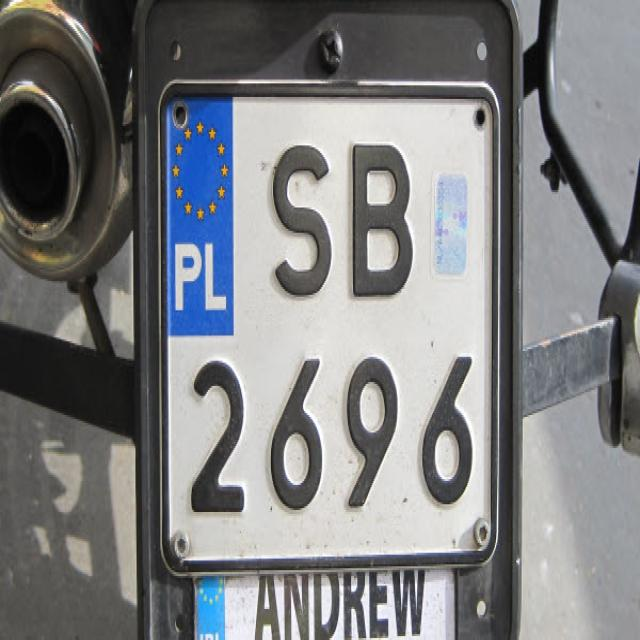pl_license_plate: (165, 93, 490, 547)
